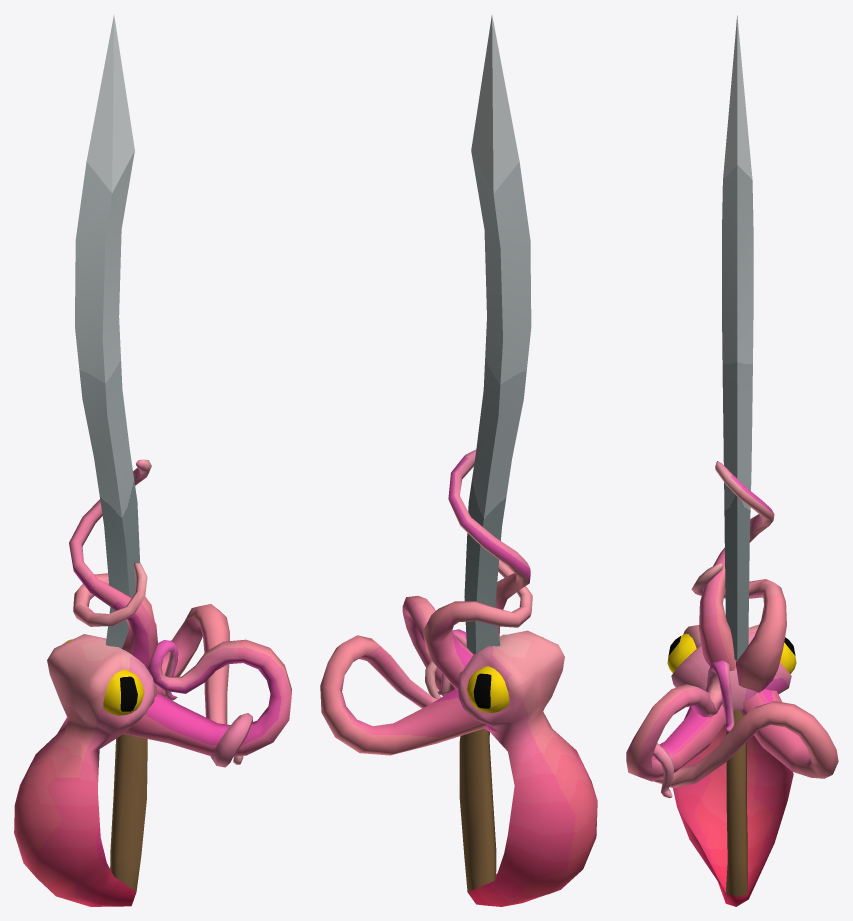
Rendered from 7-Cephalopod.fbx.
The picture shows the model from 3 angles, left to right: view 1: azimuth 30°, elevation 25°; view 2: azimuth 150°, elevation 25°; view 3: azimuth 270°, elevation 25°; orthographic projection.
Visible parts, largest first — view 1: s; view 2: s; view 3: s.
Part boxes in pixels (x1,y1,x2,y2): s: (14, 14, 291, 906); s: (320, 15, 597, 906); s: (626, 15, 838, 906).
Bounding box in the file's own units: 38.07 × 141 × 30.62.
Materials: 1 (1 with a texture image).
